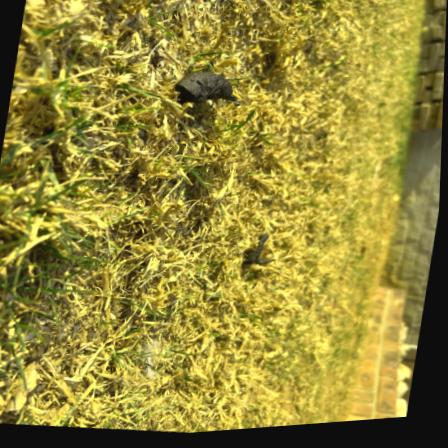dog-poop: (167, 58, 255, 117), (243, 231, 287, 276)
